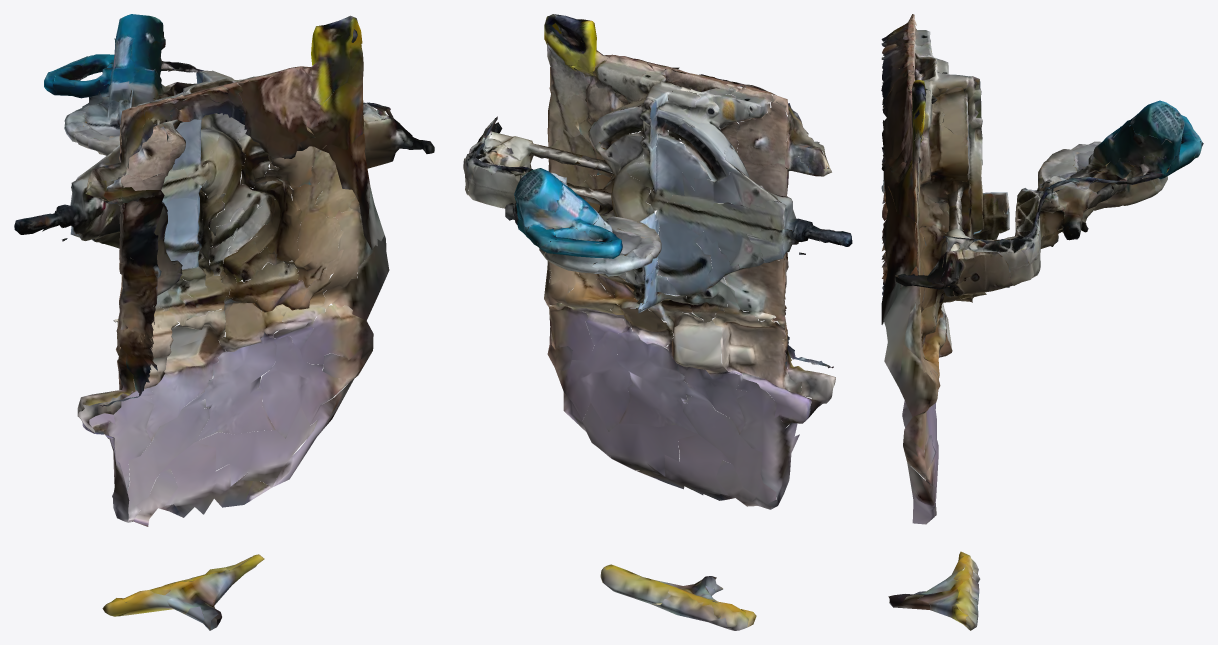
The model's file is chop-saw.glb.
The picture shows the model from 3 angles, left to right: view 1: azimuth 30°, elevation 25°; view 2: azimuth 150°, elevation 25°; view 3: azimuth 270°, elevation 25°; orthographic projection. The views are drawn at different scales.
Visible parts, largest first — view 1: Object_1; view 2: Object_1; view 3: Object_1.
Part boxes in pixels (<box>): Object_1: <box>14,14,434,630</box>; Object_1: <box>463,14,852,630</box>; Object_1: <box>881,14,1203,630</box>.
Bounding box in the file's own units: 0.4398 × 0.6 × 0.2986.
Materials: 1 (1 with a texture image).
